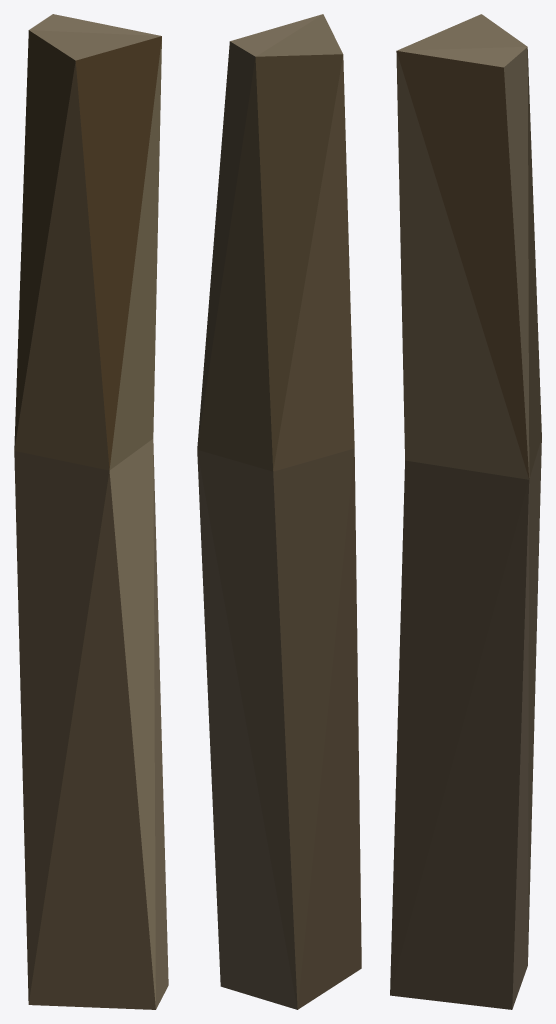
Rendered from Fence_A-End.fbx.
The picture shows the model from 3 angles, left to right: view 1: azimuth 90°, elevation 25°; view 2: azimuth 150°, elevation 25°; view 3: azimuth 270°, elevation 25°; orthographic projection.
Visible parts, largest first — view 1: Fence_A-End; view 2: Fence_A-End; view 3: Fence_A-End.
Boxes of the visible parts, box(x1,y1,x2,y2) form: Fence_A-End: box(14, 14, 168, 1009); Fence_A-End: box(197, 14, 361, 1009); Fence_A-End: box(390, 14, 541, 1009).
Size of the model in its own units: 23.37 by 174 by 25.27.
